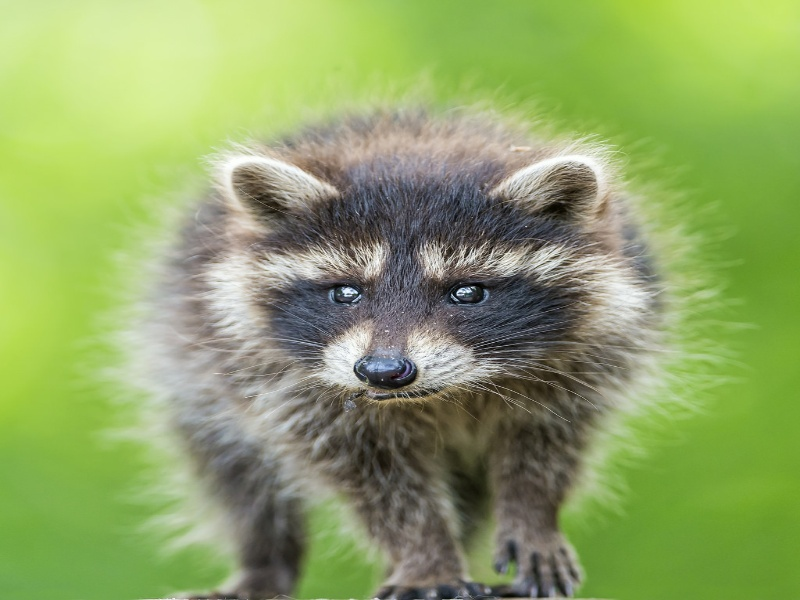raccoon: (97, 87, 692, 600)
